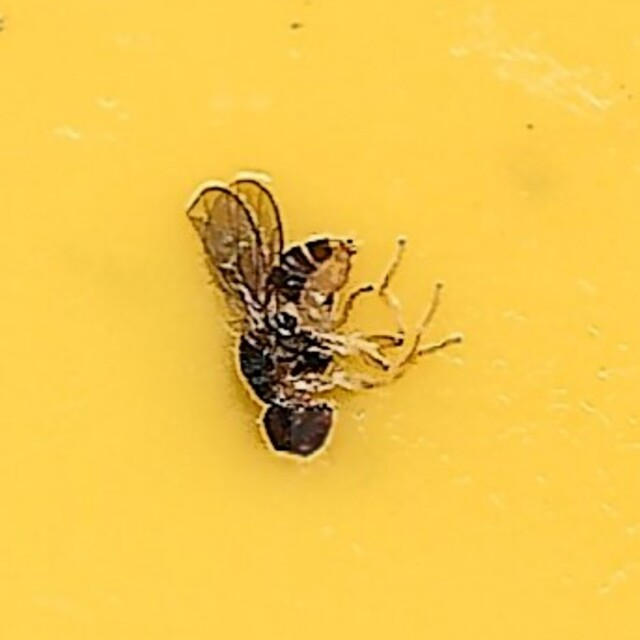Brachycera: (187, 180, 453, 460)
